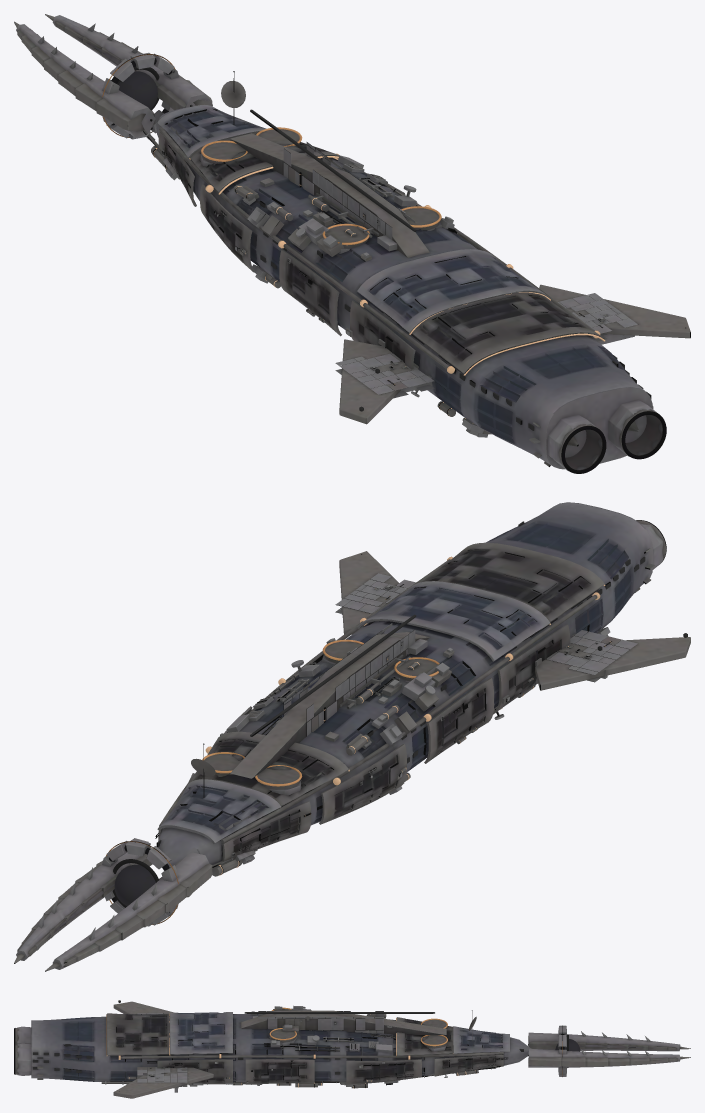
File: event_knife_hero.glb
3 renders of one model, top to bottom at view 1: azimuth 30°, elevation 25°; view 2: azimuth 150°, elevation 25°; view 3: azimuth 270°, elevation 25°, orthographic. The views are drawn at different scales.
Visible parts, largest first — view 1: HullBaked; view 2: HullBaked; view 3: HullBaked.
Part boxes in pixels (box(x1,y1,x2,y2)): HullBaked: box(14, 14, 690, 473); HullBaked: box(14, 502, 690, 971); HullBaked: box(14, 1000, 690, 1098).
Size of the model in its own units: 51.46 by 16.98 by 151.
1 material, 1 textured.
